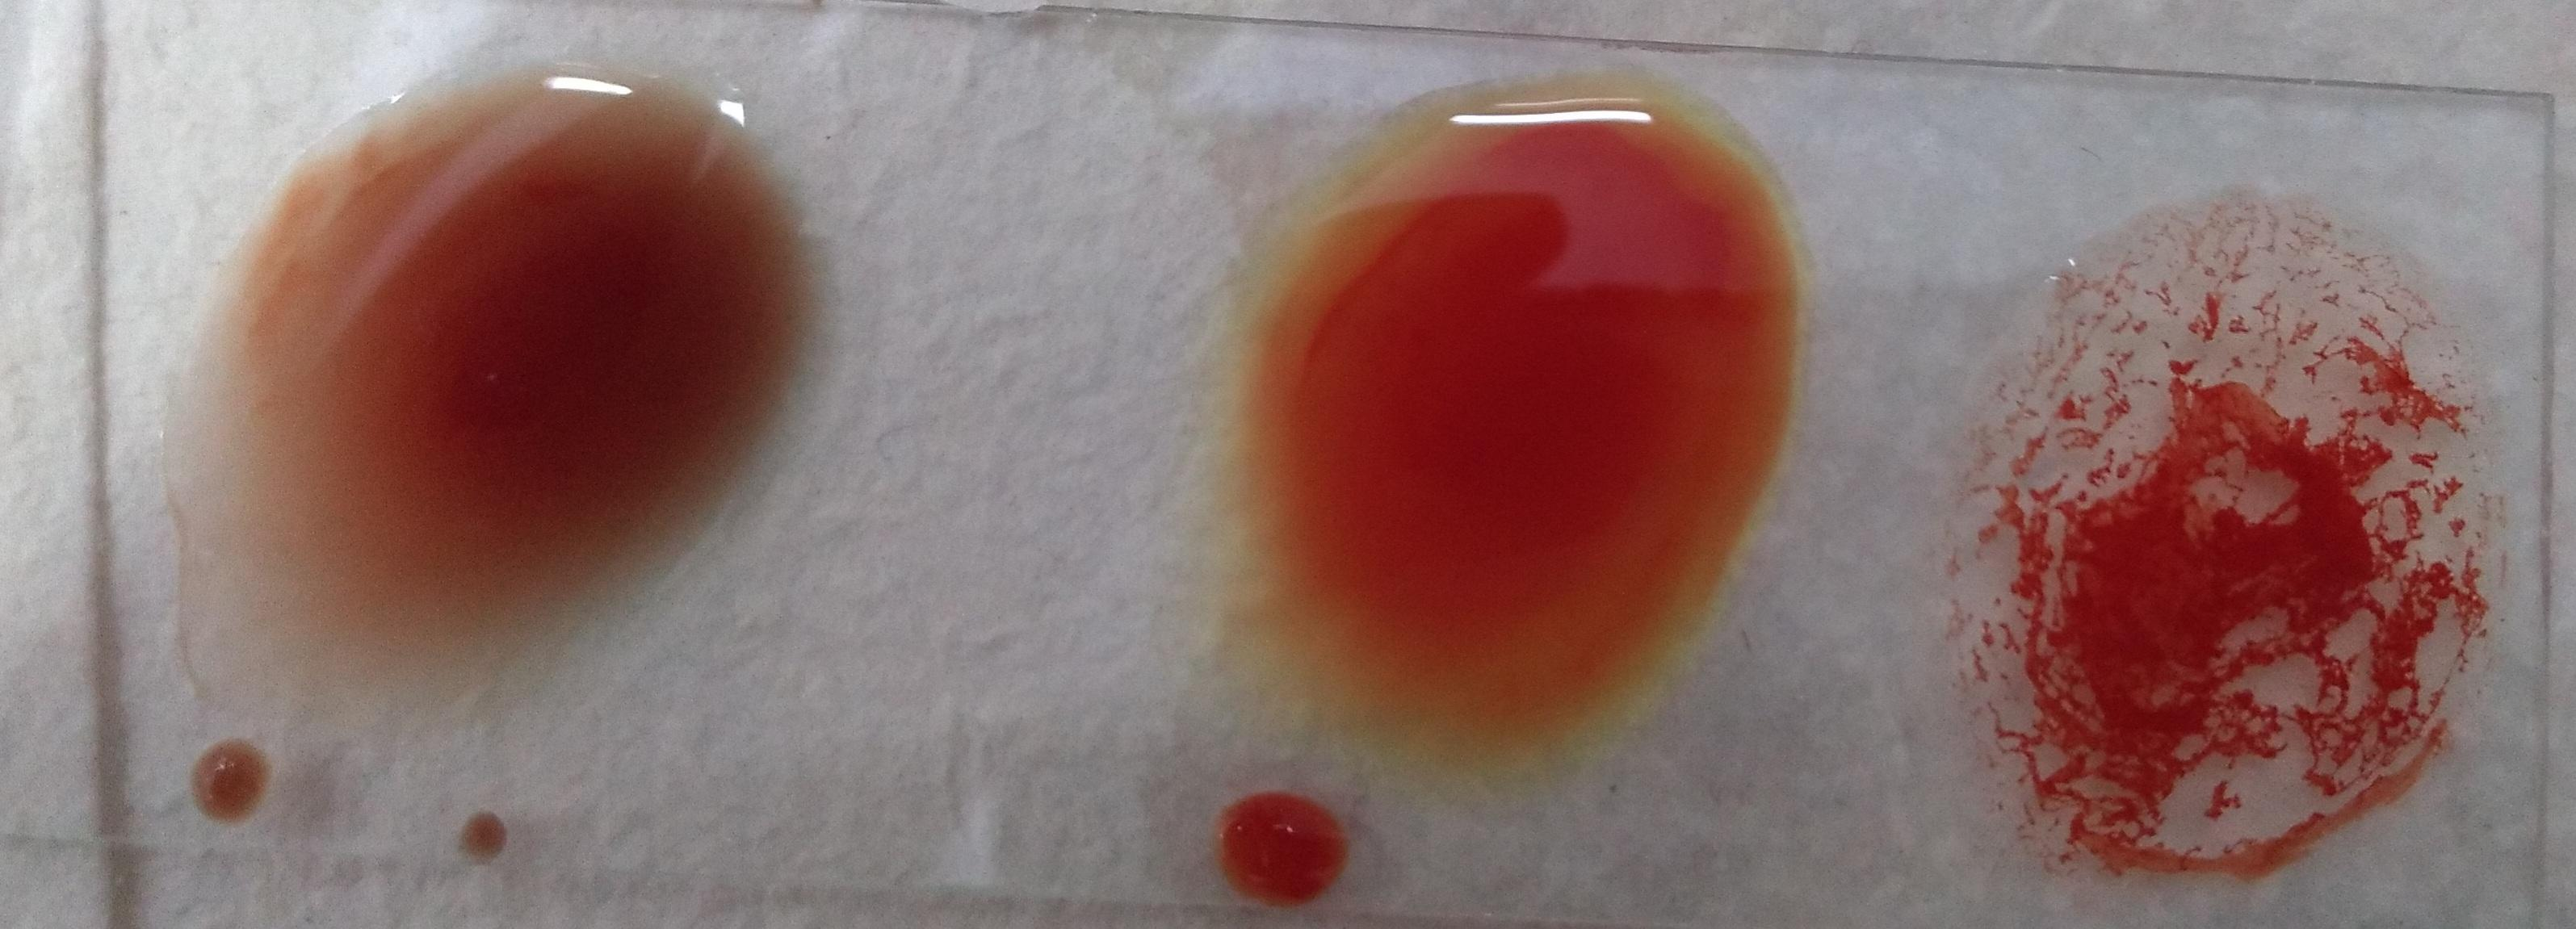D: (1978, 185, 2525, 868)
